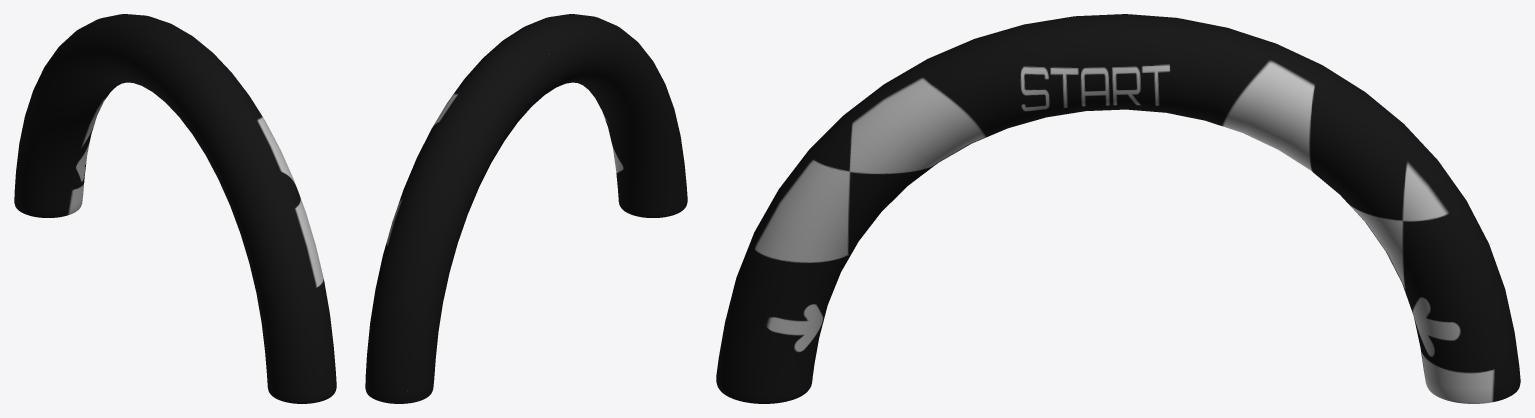
The model's file is uploads_files_5182910_arch.fbx.
The picture shows the model from 3 angles, left to right: view 1: azimuth 30°, elevation 25°; view 2: azimuth 150°, elevation 25°; view 3: azimuth 270°, elevation 25°; orthographic projection. The views are drawn at different scales.
Parts seen in each view (by area): view 1: arch; view 2: arch; view 3: arch.
Part boxes in pixels (x1,y1,x2,y2): arch: (14,14,336,403); arch: (365,14,687,403); arch: (716,14,1520,403).
Size of the model in its own units: 200 by 839 by 1664.
